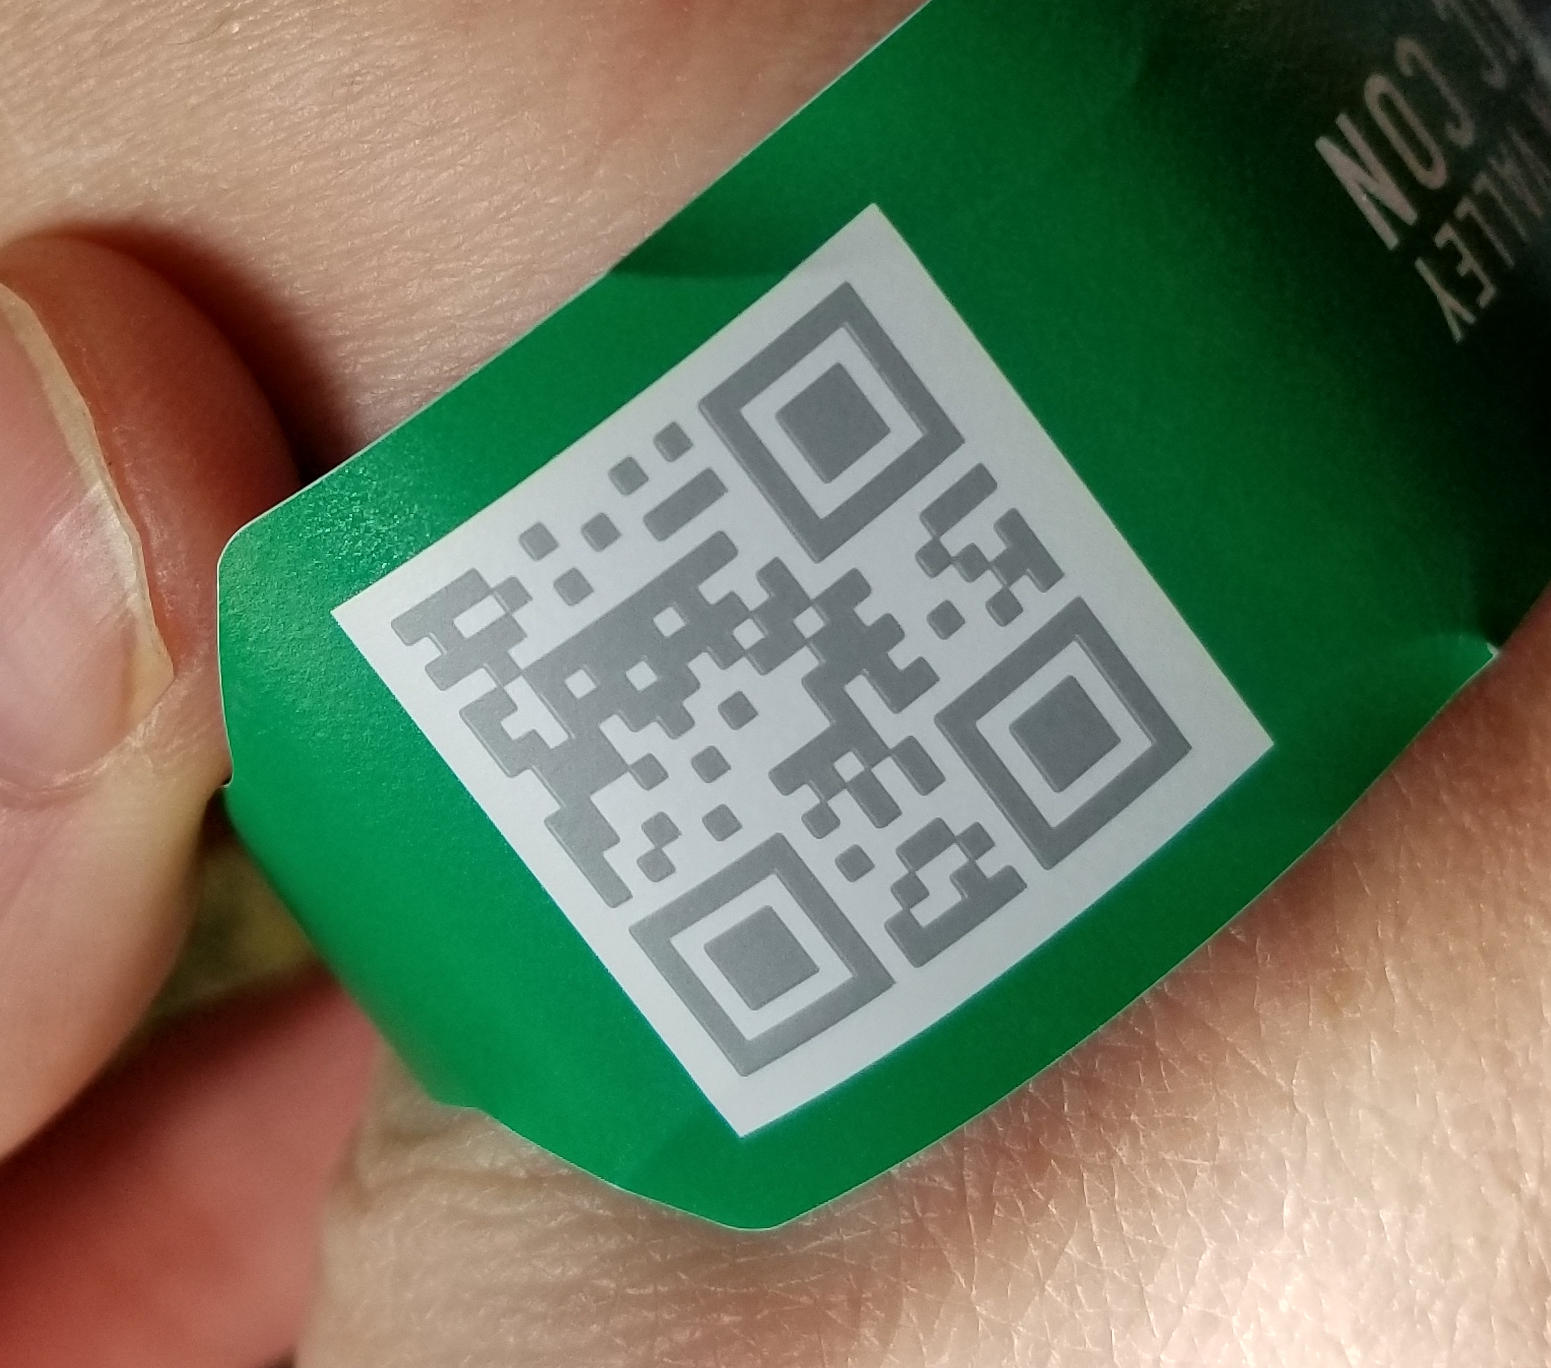QR_CODE: (370, 257, 1213, 1101)
